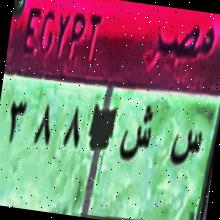3: (1, 93, 29, 155)
8: (28, 96, 56, 156), (60, 102, 85, 158)
seen: (166, 121, 206, 175)
sheen: (116, 98, 157, 178)
